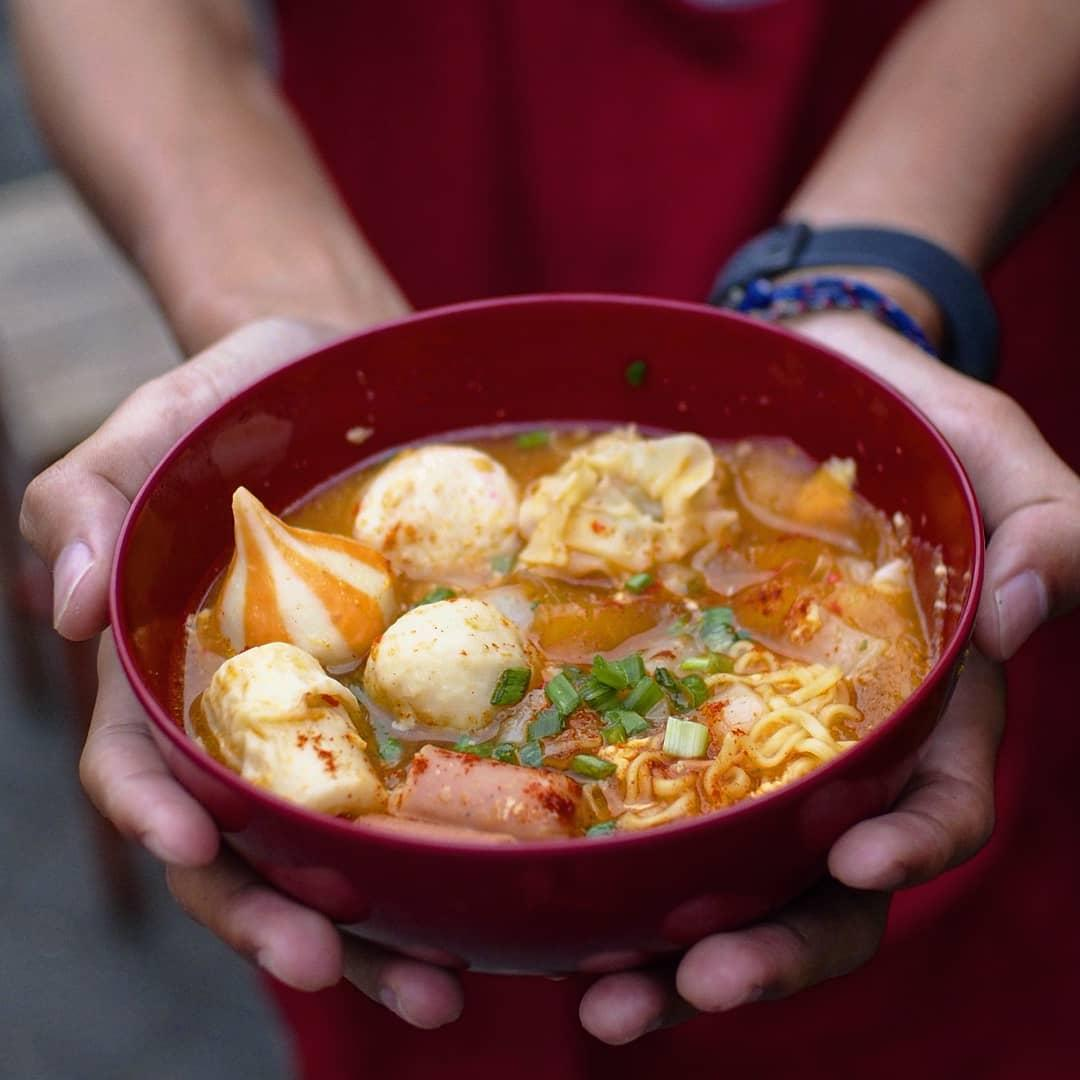seblak: (185, 422, 949, 843)
